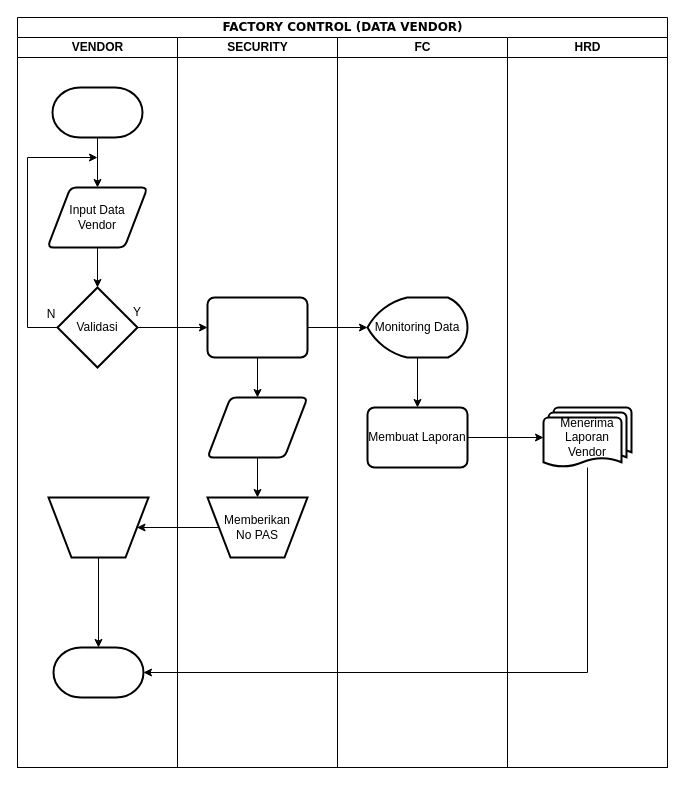
The diagram is 685 pixels wide and 785 high, and some of its shapes have lost their labels. The centre of each missing label's shape, as x and y in pixels:
"Data diterima" goes at (x=257, y=327).
"FINISH" goes at (x=98, y=672).
"Input Nomor PAS" goes at (x=257, y=427).
"Menerima No PAS" goes at (x=98, y=527).
"START" goes at (x=97, y=112).
